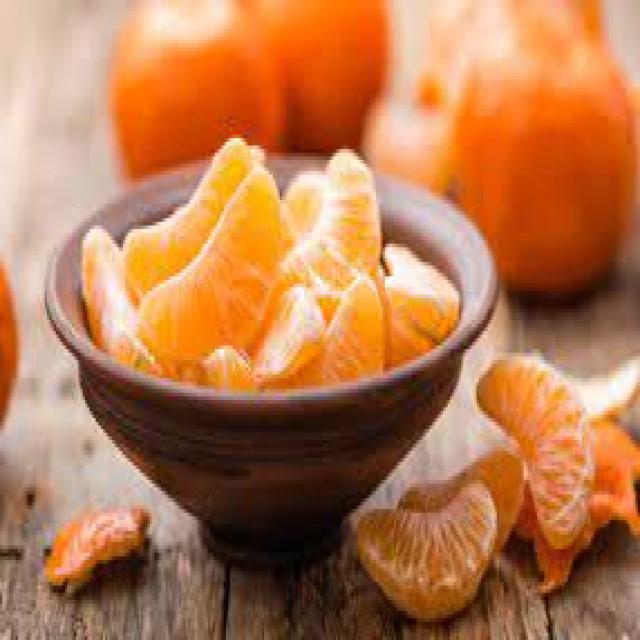orange: (467, 49, 639, 282)
